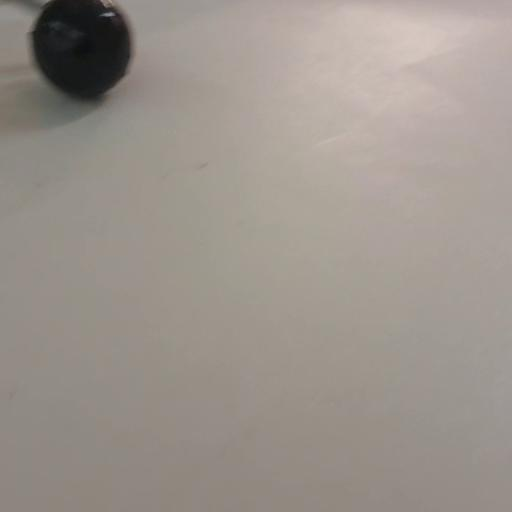dead: (32, 0, 131, 96)
